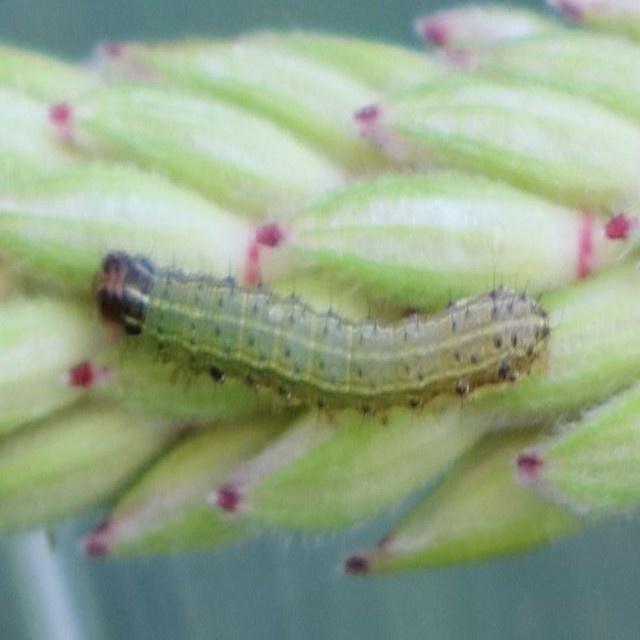gusano_cogollero: (87, 244, 558, 422)
